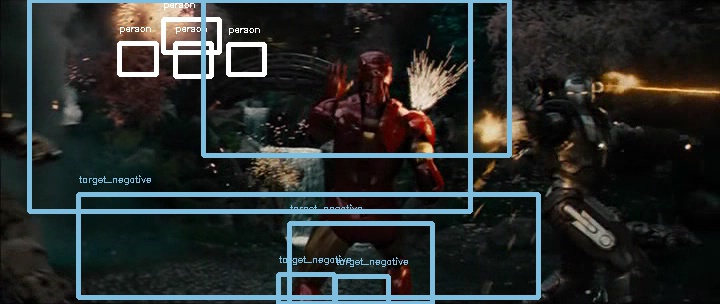person: (350, 43, 400, 89), (349, 43, 399, 89), (351, 43, 401, 89), (350, 42, 400, 88), (350, 44, 400, 90)
target_negative: (88, 112, 492, 228), (136, 151, 686, 191), (254, 78, 316, 207), (352, 185, 690, 201), (208, 281, 668, 292), (404, 265, 415, 292)
